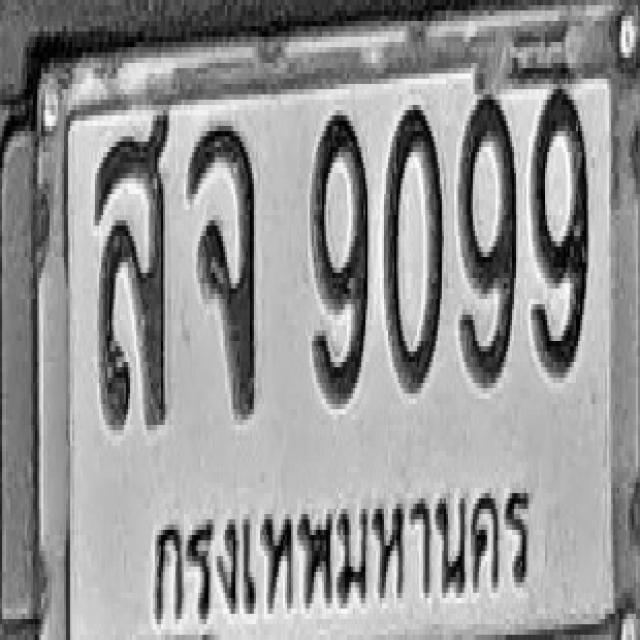0: (385, 102, 443, 391)
17ChorChan: (188, 120, 256, 414)
49SorSuea: (95, 108, 169, 428)
9: (459, 87, 515, 386), (312, 110, 367, 404), (532, 79, 587, 372)
Bangkok: (146, 461, 549, 640)
